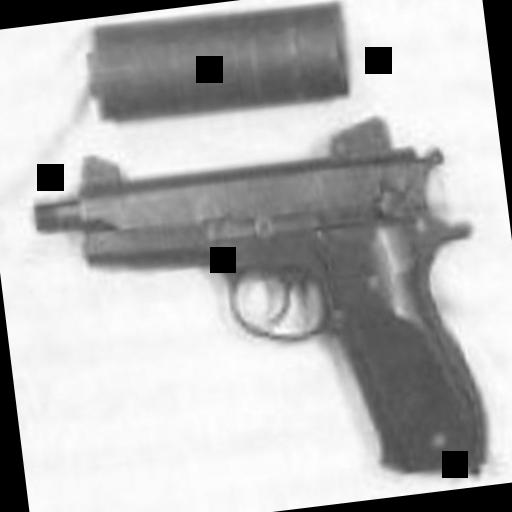Handgun: (19, 96, 508, 512)
